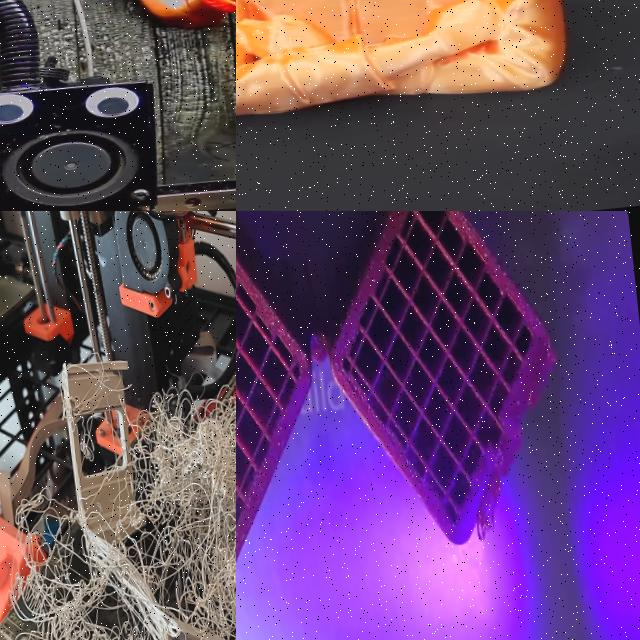spaghetti: (0, 325, 236, 640), (472, 492, 509, 554)
